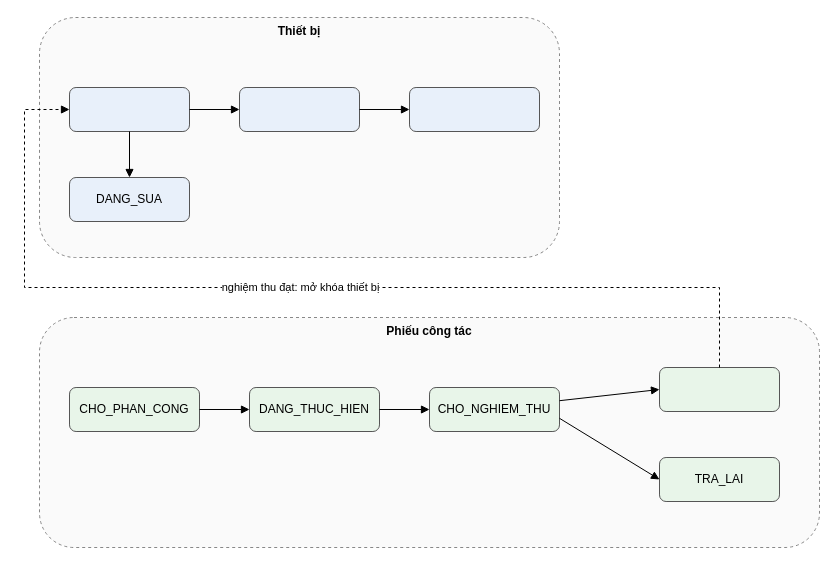
Some shapes in this 837 by 565 pixel diagram are drawn without their labels. Here are the shapes that lost their labels. From the top down, the centre of each, then its label:
At (129,109): "HOAT_DONG".
At (299,109): "SAP_HAN".
At (474,109): "CHO_HIEU_CHUAN".
At (719,389): "HOAN_THANH".
